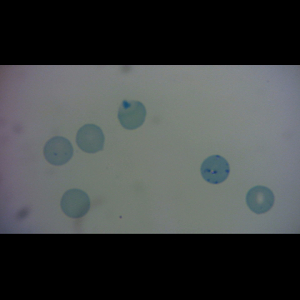aggregate reticulocyte: (200, 154, 232, 185)
erythrocyte: (58, 187, 92, 220), (75, 122, 107, 155), (116, 99, 148, 131)
punctate reticulocyte: (42, 135, 76, 167), (245, 185, 276, 215)
